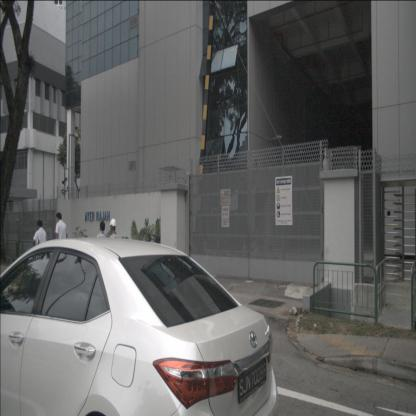human-pedestrian-adult: (108, 218, 123, 294), (95, 220, 109, 295), (55, 211, 68, 280), (32, 217, 46, 280)
vehicle-car: (0, 237, 279, 415)
